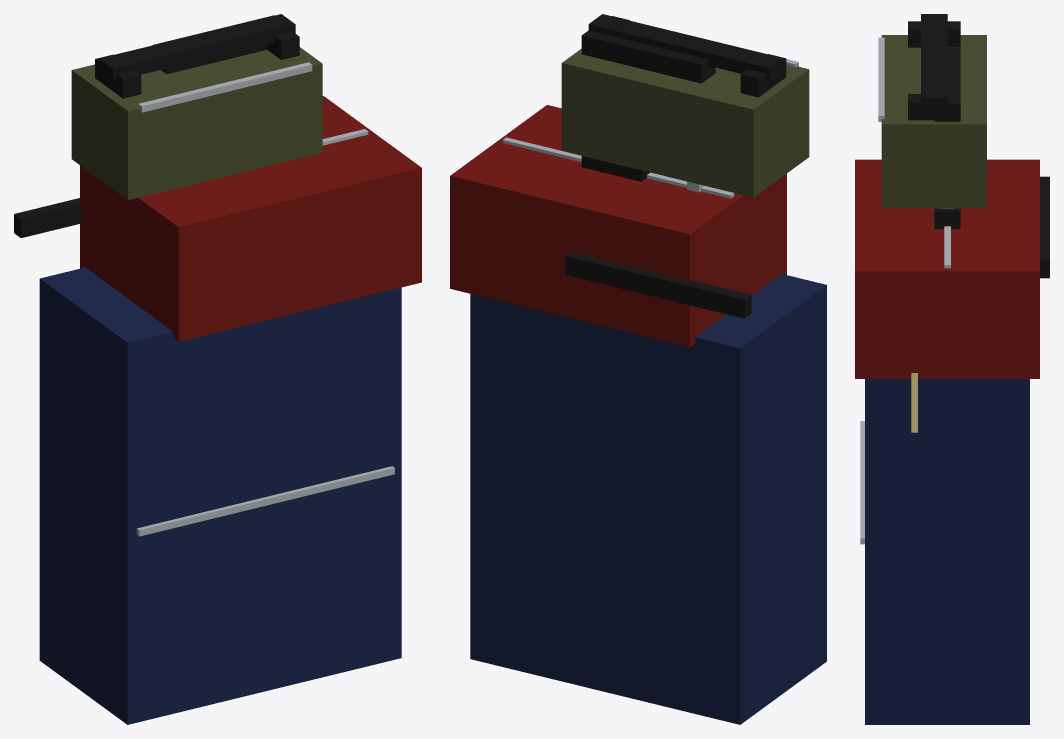
The model's file is Airport_Luggage_Baggage.obj.
The picture shows the model from 3 angles, left to right: view 1: azimuth 30°, elevation 25°; view 2: azimuth 150°, elevation 25°; view 3: azimuth 270°, elevation 25°; orthographic projection. The views are drawn at different scales.
Parts seen in each view (by area): view 1: Large_Suitcase_Body, Medium_Bag_Body, Duffel_Body, Duffel_Handle_Top, Large_Suitcase_Zipper, Duffel_Zipper, Medium_Bag_Strap, Duffel_Handle_L, Large_Suitcase_Retract_Grip, Duffel_Handle_R; view 2: Large_Suitcase_Body, Medium_Bag_Body, Duffel_Body, Medium_Bag_Strap, Duffel_Handle_Top, Large_Suitcase_Retract_Grip, Medium_Bag_Zipper, Duffel_Handle_L, Medium_Bag_Handle; view 3: Large_Suitcase_Body, Medium_Bag_Body, Duffel_Body, Duffel_Handle_Top, Large_Suitcase_Retract_Grip, Medium_Bag_Strap, Duffel_Handle_L, Large_Suitcase_Zipper, Duffel_Zipper, Duffel_Handle_R, Medium_Bag_Handle, Large_Suitcase_Tag.
Boxes of the visible parts, box(x1,y1,x2,y2) form: Large_Suitcase_Body: box(39, 267, 401, 724); Medium_Bag_Body: box(80, 96, 421, 341); Duffel_Body: box(71, 47, 322, 200); Duffel_Handle_Top: box(99, 14, 295, 81); Large_Suitcase_Zipper: box(136, 466, 394, 536); Duffel_Zipper: box(138, 62, 312, 112); Medium_Bag_Strap: box(14, 198, 81, 237); Duffel_Handle_L: box(95, 54, 141, 98); Large_Suitcase_Retract_Grip: box(153, 15, 274, 73); Duffel_Handle_R: box(265, 16, 299, 59); Large_Suitcase_Body: box(470, 274, 826, 724); Medium_Bag_Body: box(450, 105, 786, 347); Duffel_Body: box(561, 49, 809, 197); Medium_Bag_Strap: box(565, 252, 751, 318); Duffel_Handle_Top: box(588, 14, 782, 80); Large_Suitcase_Retract_Grip: box(581, 30, 715, 83); Medium_Bag_Zipper: box(503, 137, 734, 198); Duffel_Handle_L: box(740, 54, 786, 97); Medium_Bag_Handle: box(581, 156, 649, 181); Large_Suitcase_Body: box(865, 379, 1029, 724); Medium_Bag_Body: box(855, 159, 1039, 378); Duffel_Body: box(881, 35, 986, 208); Duffel_Handle_Top: box(921, 14, 947, 109); Large_Suitcase_Retract_Grip: box(934, 48, 960, 121); Medium_Bag_Strap: box(1040, 176, 1049, 278); Duffel_Handle_L: box(908, 21, 960, 47); Large_Suitcase_Zipper: box(860, 421, 864, 544); Duffel_Zipper: box(878, 37, 884, 121); Duffel_Handle_R: box(908, 94, 960, 120); Medium_Bag_Handle: box(934, 208, 960, 229); Large_Suitcase_Tag: box(911, 373, 917, 432).
Bounding box in the file's own units: 0.5 × 0.99 × 0.295.
